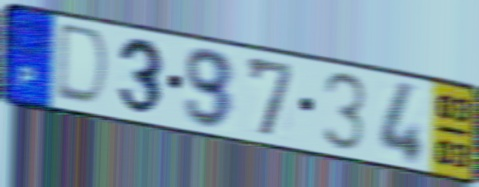3: (116, 33, 167, 119), (320, 69, 369, 155)
4: (377, 77, 427, 167)
7: (244, 54, 298, 140)
9: (181, 47, 239, 132)
D: (52, 20, 113, 111)
